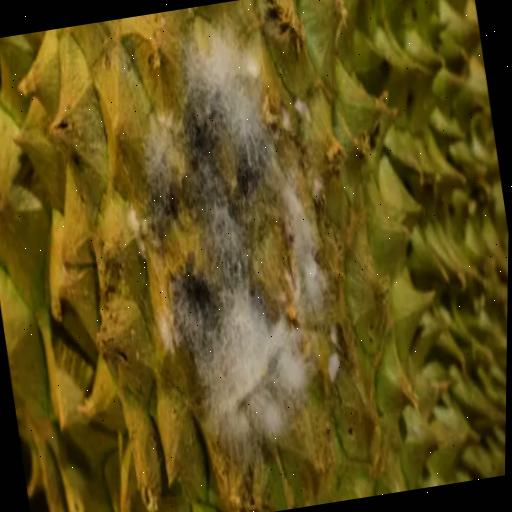mold: (130, 31, 331, 458)
